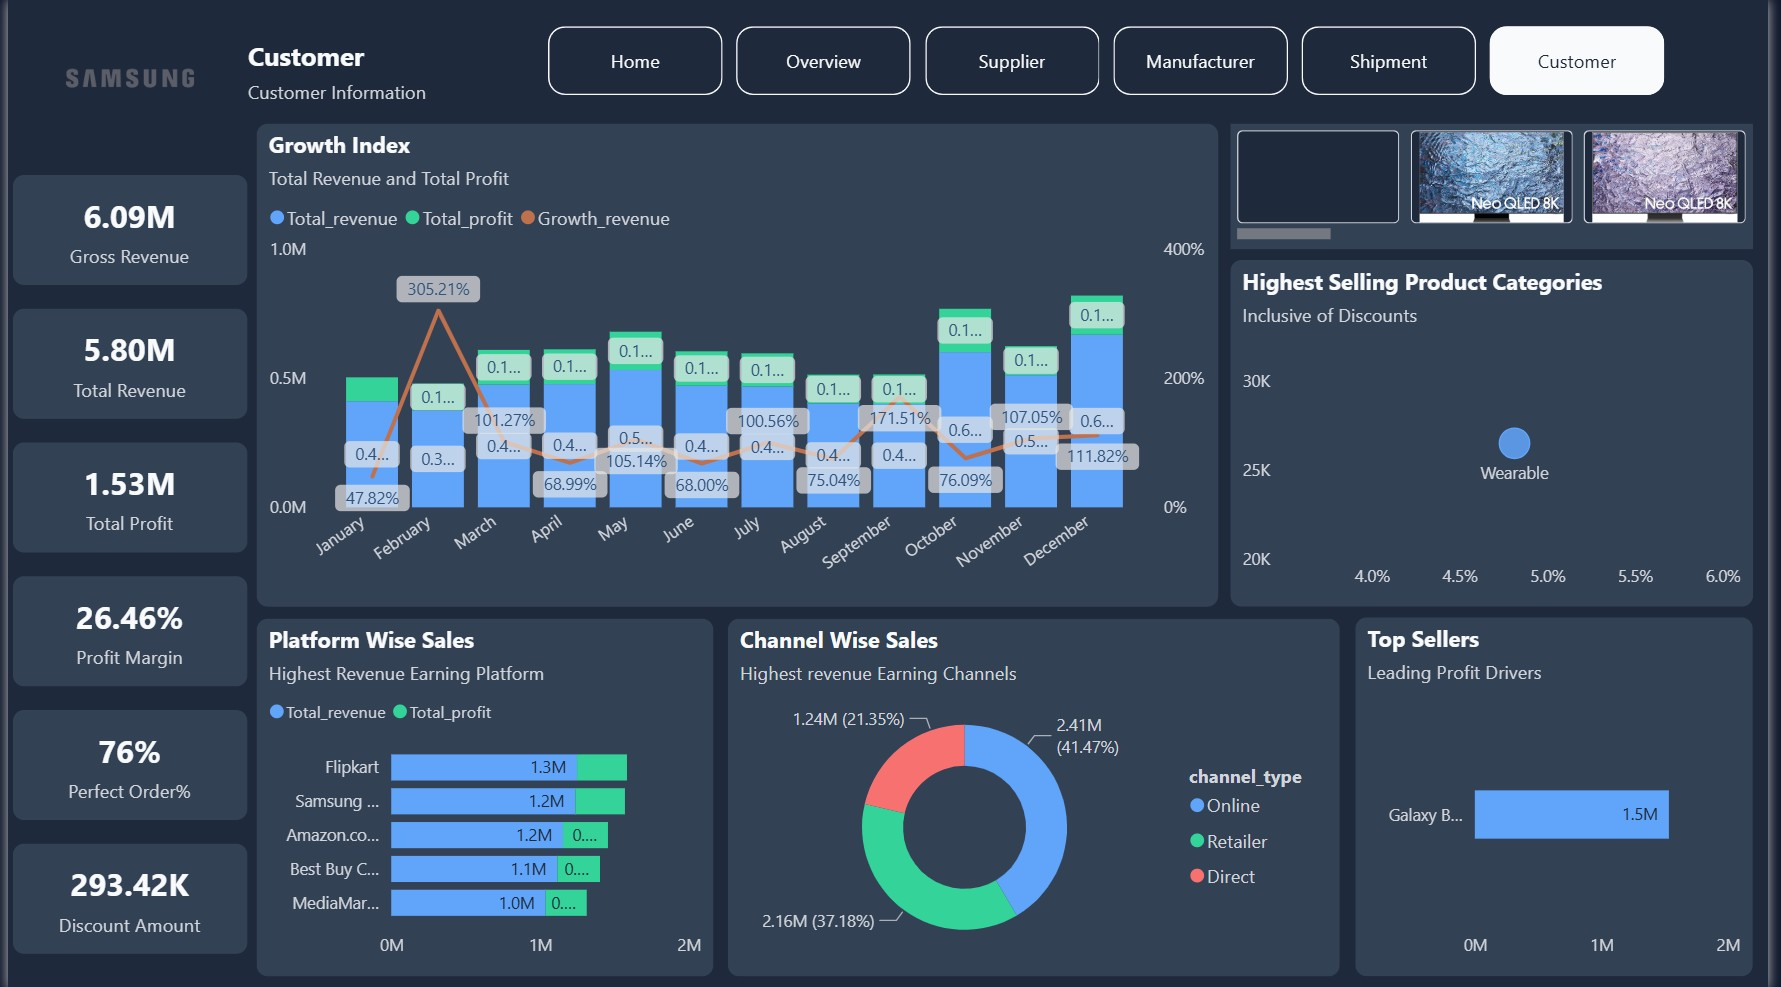

This screenshot's page, from the dashboard's own definition file:
{"tool":"powerbi","page":{"name":"Customer","canvas":[1280,720],"ordinal":5},"visuals":[{"type":"image","box":[16.2,0,145,113.8],"z":1000},{"type":"card","fields":{"Values":["calculated_tbl.Total_revenue"]},"box":[3.8,224.8,170,80],"z":2000},{"type":"card","fields":{"Values":["calculated_tbl.Total_profit"]},"box":[3.8,322,170,80],"z":3000},{"type":"card","fields":{"Values":["calculated_tbl.Profit_margin"]},"box":[3.8,419.2,170,80],"z":4000},{"type":"card","fields":{"Values":["calculated_tbl.Perfect_Order%"]},"box":[3.8,516.5,170,80],"z":5000},{"type":"card","fields":{"Values":["Sum(fact_sales.gross_revenue)"]},"box":[3.8,127.5,170,80],"z":6000},{"type":"card","fields":{"Values":["Sum(fact_sales.discount_amount)"]},"box":[3.8,613.8,170,80],"z":7000},{"type":"barChart","title":"Platform Wise Sales","fields":{"Category":["dim_customer.customer_name"],"Y":["calculated_tbl.Total_revenue","calculated_tbl.Total_profit"]},"box":[181.1,450,332.2,260],"z":8000},{"type":"donutChart","title":"Channel Wise Sales","fields":{"Y":["calculated_tbl.Total_revenue"],"Category":["dim_customer.channel_type"]},"box":[523.3,450,444.4,260],"z":9000},{"type":"lineStackedColumnComboChart","title":"Growth Index","fields":{"Category":["dim_date.date.Variation.Date Hierarchy.Month"],"Y":["calculated_tbl.Total_revenue","calculated_tbl.Total_profit"],"Y2":["calculated_tbl.Growth_revenue"]},"box":[181.1,90,698.9,351.1],"z":10000},{"type":"clusteredBarChart","title":"Top Sellers","fields":{"Category":["dim_product.product_name"],"Y":["calculated_tbl.Total_profit"]},"box":[980,448.9,288.9,261.1],"z":11000},{"type":"scatterChart","title":"Highest Selling Product Categories","fields":{"X":["calculated_tbl.discount%"],"Y":["calculated_tbl.Quantity_sold"],"Series":["dim_product.category"],"Size":["calculated_tbl.Total_revenue"]},"box":[888.9,188.9,380,252.2],"z":12000},{"type":"advancedSlicerVisual","fields":{"Values":["dim_product.product_name"]},"box":[888.9,90,380,91.1],"z":13000},{"type":"shape","title":"Customer","box":[174.3,28.6,191.4,55.7],"z":15000},{"type":"pageNavigator","box":[392.4,18.8,813.7,50.5],"z":15001}]}

Visuals, with their boxes in screenshot pixels (x1, y1, x2, y2), scaled from the page's 1280x720 canvas onto the 1781x987 screenshot:
image: Rect(23, 0, 224, 156)
card - calculated_tbl.Total_revenue: Rect(5, 308, 242, 418)
card - calculated_tbl.Total_profit: Rect(5, 441, 242, 551)
card - calculated_tbl.Profit_margin: Rect(5, 575, 242, 684)
card - calculated_tbl.Perfect_Order%: Rect(5, 708, 242, 818)
card - Sum(fact_sales.gross_revenue): Rect(5, 175, 242, 284)
card - Sum(fact_sales.discount_amount): Rect(5, 841, 242, 951)
"Platform Wise Sales" barChart: Rect(252, 617, 714, 973)
"Channel Wise Sales" donutChart: Rect(728, 617, 1346, 973)
"Growth Index" lineStackedColumnComboChart: Rect(252, 123, 1224, 605)
"Top Sellers" clusteredBarChart: Rect(1364, 615, 1766, 973)
"Highest Selling Product Categories" scatterChart: Rect(1237, 259, 1766, 605)
advancedSlicerVisual - dim_product.product_name: Rect(1237, 123, 1766, 248)
"Customer" shape: Rect(243, 39, 509, 116)
pageNavigator: Rect(546, 26, 1678, 95)
